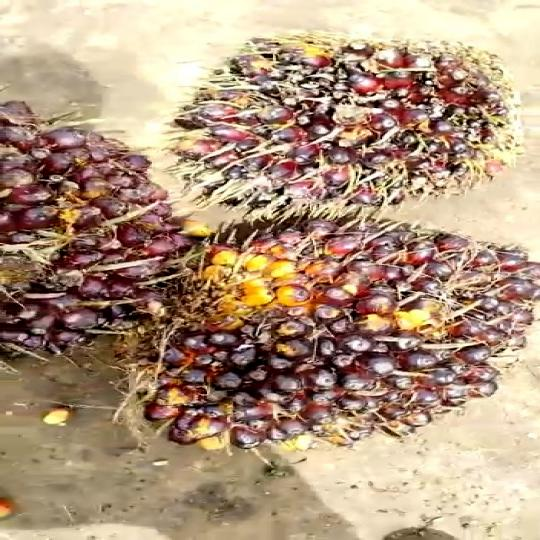kurang masak: (113, 202, 540, 448), (166, 32, 540, 226), (0, 85, 195, 370)
